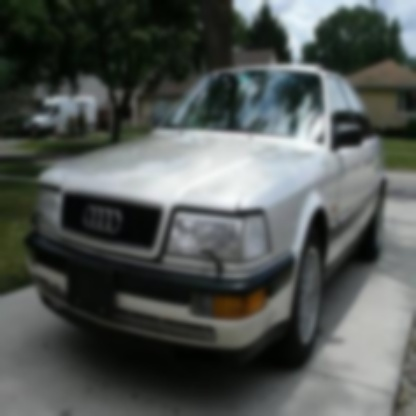Vehicle: (20, 63, 390, 371)
